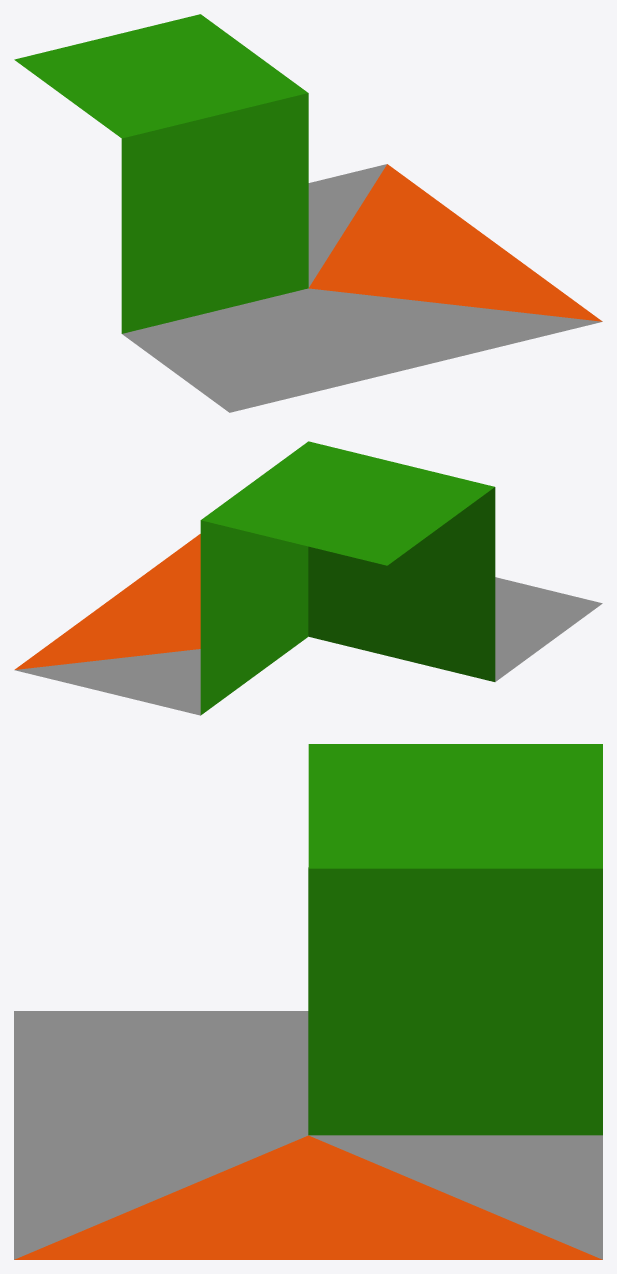
3 views of the same model, one above another, from view 1: azimuth 30°, elevation 25°; view 2: azimuth 150°, elevation 25°; view 3: azimuth 270°, elevation 25° (orthographic). The views are drawn at different scales.
Parts seen in each view (by area): view 1: T_2_4_0; view 2: T_2_4_0; view 3: T_2_4_0.
Part boxes in pixels (box(x1,y1,x2,y2)): T_2_4_0: box(14, 14, 602, 412); T_2_4_0: box(14, 441, 602, 715); T_2_4_0: box(14, 744, 602, 1259).
Bounding box in the file's own units: 99.79 × 49.91 × 99.81.
